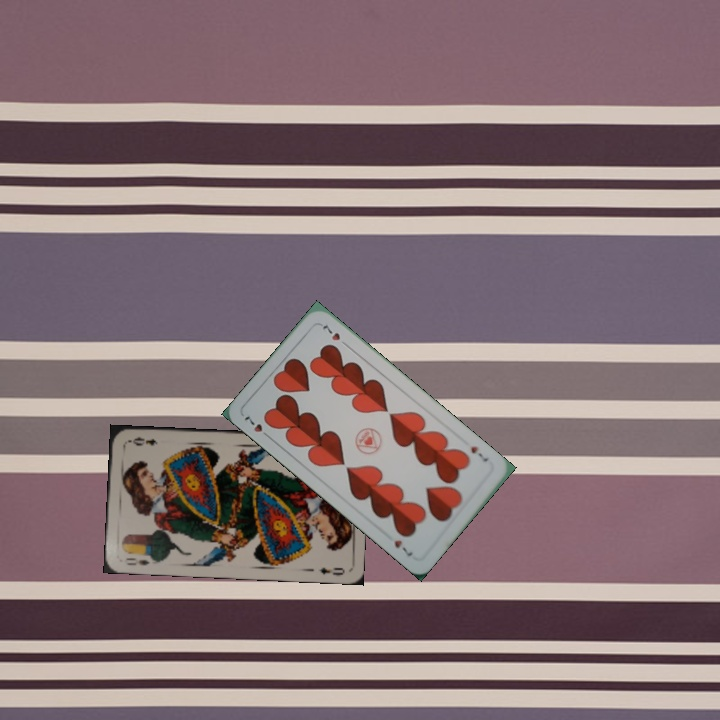EO: (122, 553, 152, 568)
H7: (240, 412, 274, 442), (467, 442, 491, 465)
